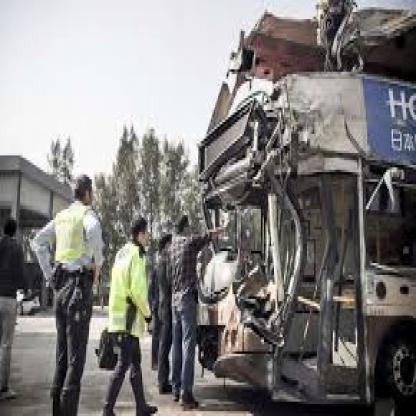accident: (149, 3, 416, 416)
